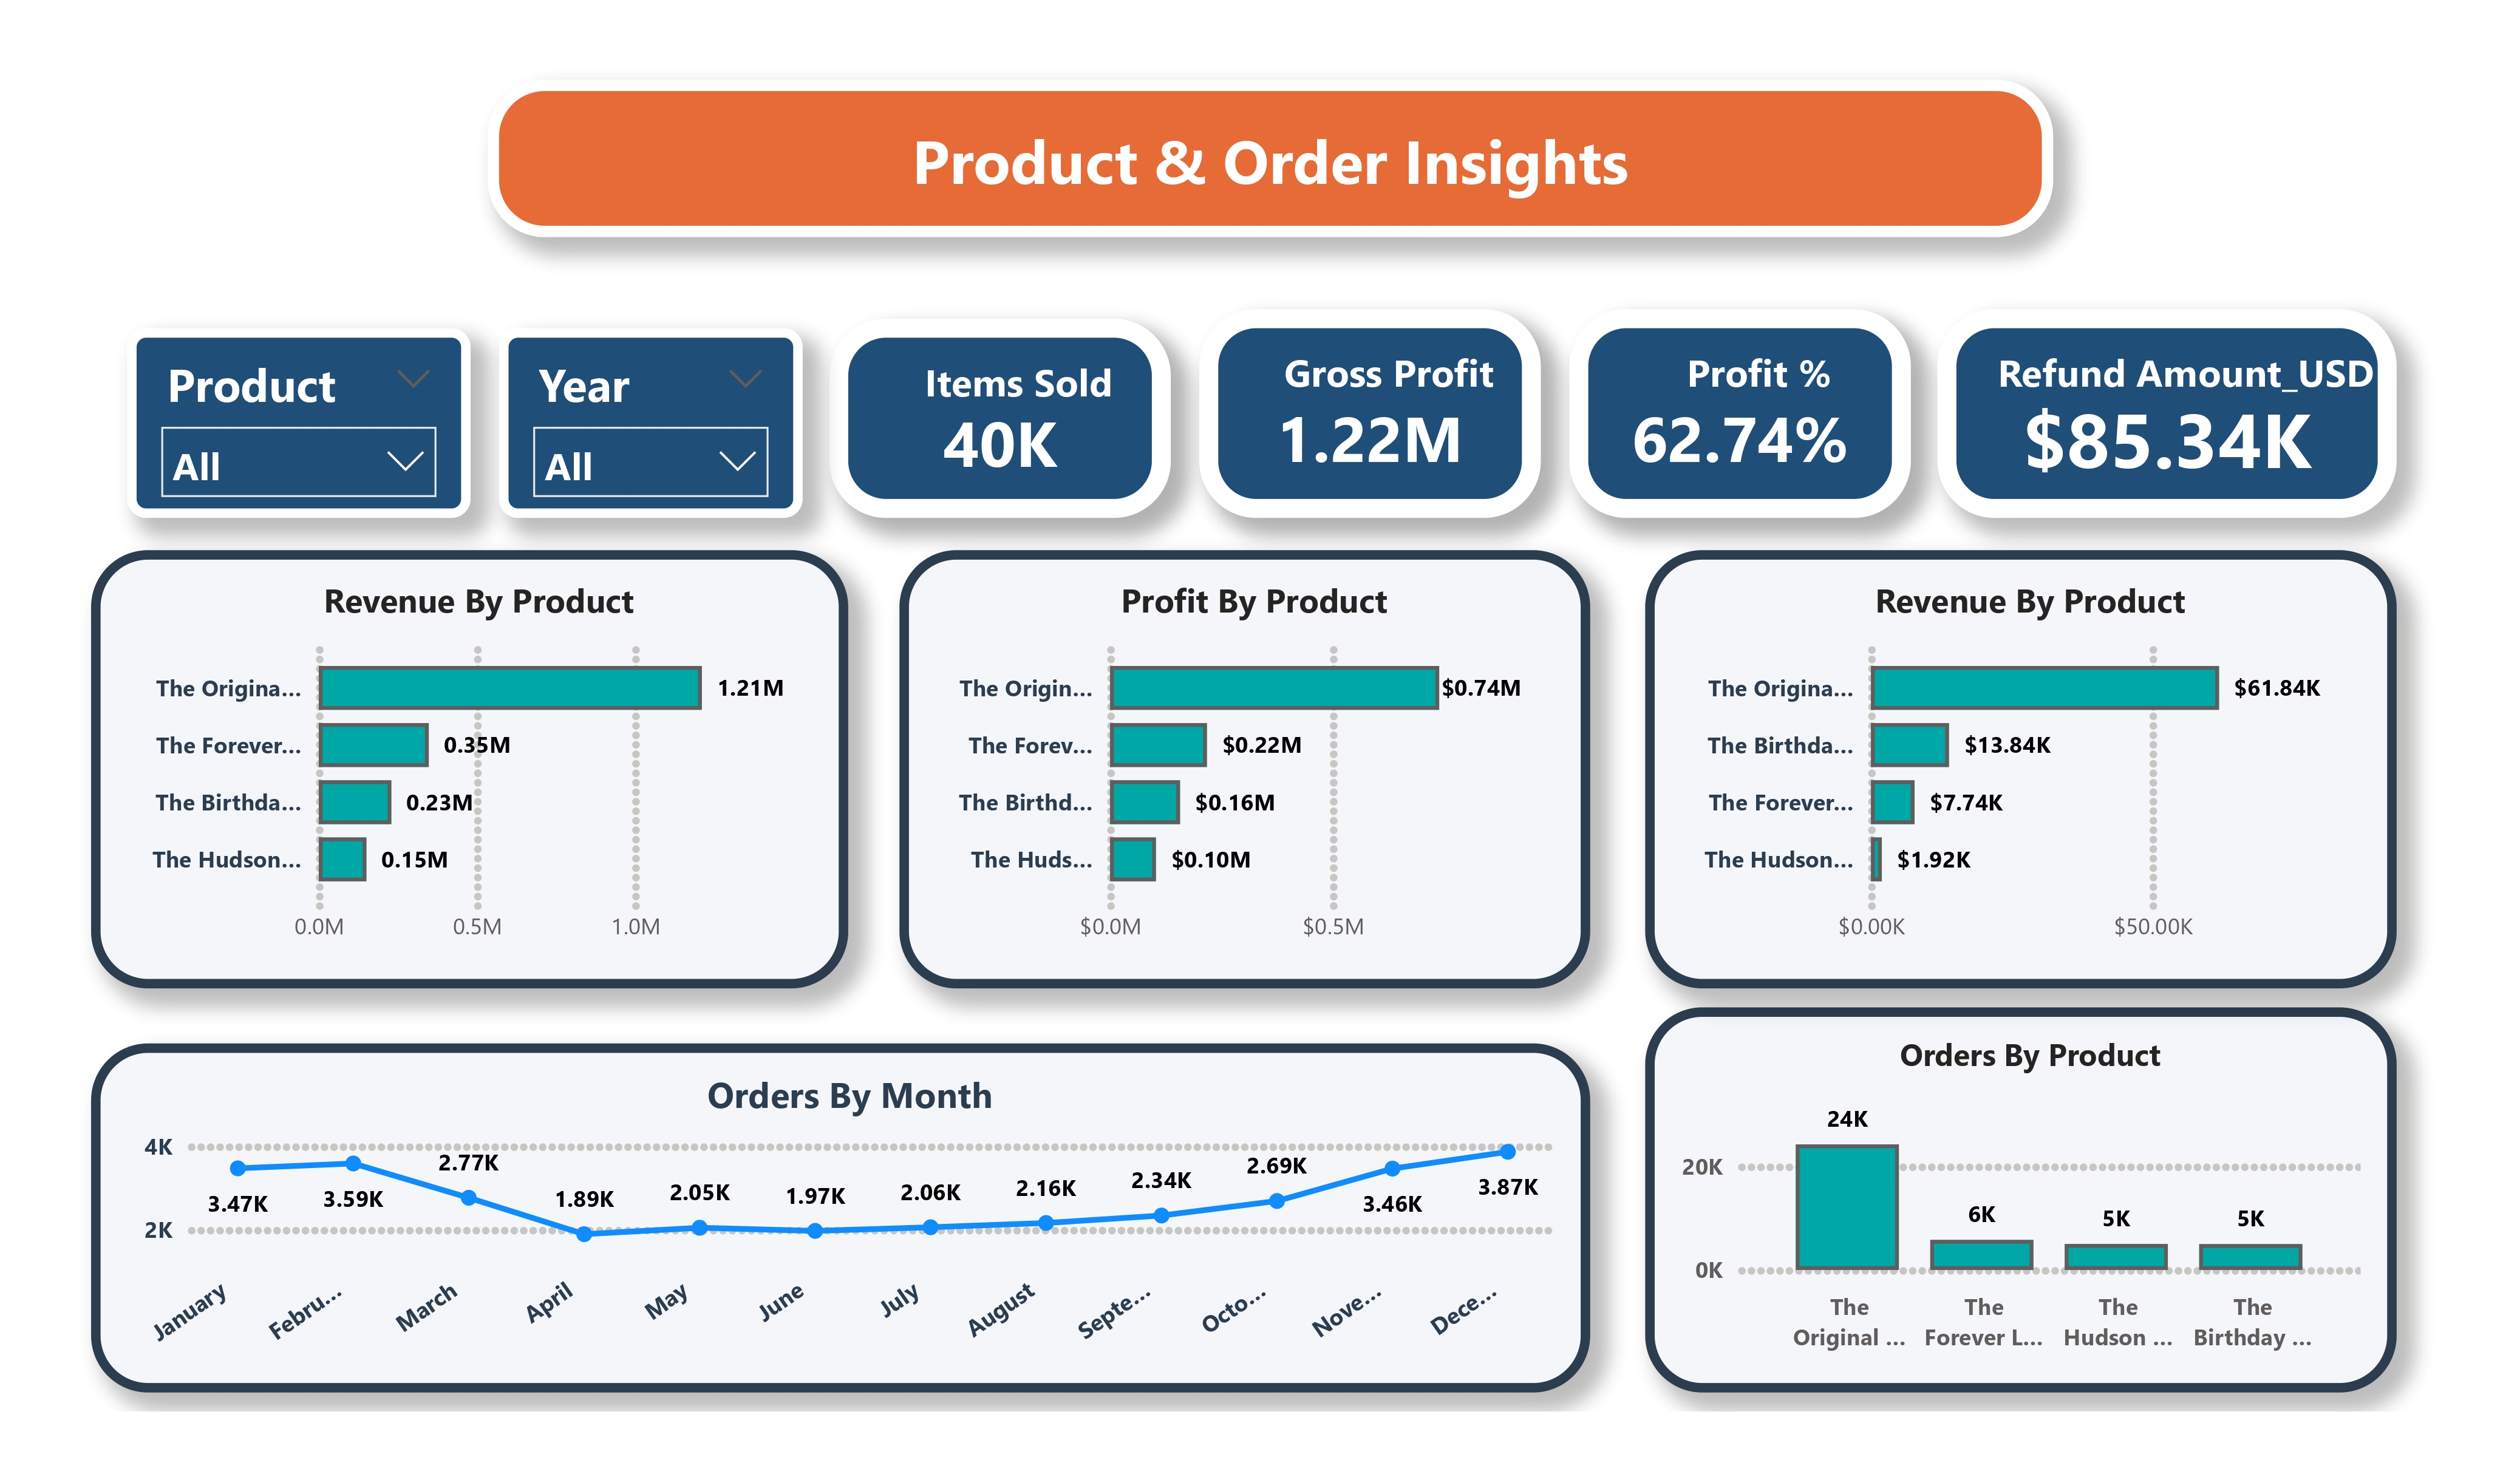

This screenshot's page, from the dashboard's own definition file:
{"tool":"powerbi","page":{"name":"Product & Order Insights","canvas":[1280,720],"ordinal":2},"visuals":[{"type":"card","title":"Items Sold","fields":{"Values":["orders.Total Items Sold"]},"box":[412.9,144.3,180,104.3],"z":0},{"type":"textbox","box":[232.5,17.5,825,83.8],"z":1000},{"type":"card","title":"Gross Profit","fields":{"Values":["orders.Profit"]},"box":[608,138.6,180,110],"z":2000},{"type":"card","title":"Profit % ","fields":{"Values":["orders.Profit %"]},"box":[802.6,138.6,180,110],"z":3000},{"type":"card","title":"Refund Amount_USD ","fields":{"Values":["order_item_refunds.Total Refund Amount"]},"box":[997.1,138.6,241.4,110],"z":4000},{"type":"slicer","fields":{"Values":["products.product_name"]},"box":[42.9,148.6,181.4,100],"z":5000},{"type":"clusteredBarChart","title":"Revenue By Product","fields":{"Category":["products.product_name"],"Y":["orders.Total Revenue"]},"box":[24.3,265.7,398.6,231.4],"z":6000},{"type":"lineChart","title":"Orders By Month","fields":{"Category":["orders.created_at.Variation.Date Hierarchy.Month"],"Y":["orders.Total Orders"]},"box":[24.3,525.7,790,184.3],"z":7000},{"type":"clusteredColumnChart","title":"Orders By Product","fields":{"Y":["orders.Total Orders"],"Category":["products.product_name"]},"box":[842.9,507.1,395.7,202.9],"z":8000},{"type":"clusteredBarChart","title":"Profit By Product","fields":{"Category":["products.product_name"],"Y":["orders.Profit"]},"box":[450,265.7,364.3,231.4],"z":9000},{"type":"clusteredBarChart","title":"Revenue By Product","fields":{"Category":["products.product_name"],"Y":["order_item_refunds.Total Refund Amount"]},"box":[842.9,265.7,395.7,231.4],"z":10000},{"type":"slicer","fields":{"Values":["orders.created_at.Variation.Date Hierarchy.Year"]},"box":[238.9,148.6,160,100],"z":11000}]}

Visuals, with their boxes in screenshot pixels (x1, y1, x2, y2):
"Items Sold" card: box=[833, 322, 1170, 518]
textbox: box=[494, 85, 2040, 242]
"Gross Profit" card: box=[1197, 312, 1534, 518]
"Profit % " card: box=[1562, 312, 1899, 518]
"Refund Amount_USD " card: box=[1926, 312, 2379, 518]
slicer - products.product_name: box=[140, 331, 479, 518]
"Revenue By Product" clusteredBarChart: box=[104, 550, 851, 983]
"Orders By Month" lineChart: box=[104, 1037, 1584, 1382]
"Orders By Product" clusteredColumnChart: box=[1638, 1002, 2379, 1382]
"Profit By Product" clusteredBarChart: box=[902, 550, 1584, 983]
"Revenue By Product" clusteredBarChart: box=[1638, 550, 2379, 983]
slicer - orders.created_at.Variation.Date Hierarchy.Year: box=[506, 331, 806, 518]
